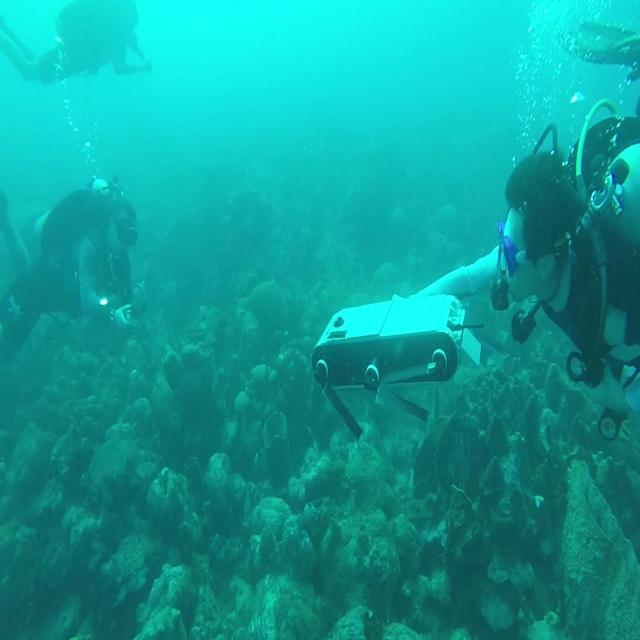human: (436, 21, 640, 436), (1, 174, 139, 366), (0, 0, 153, 86)
